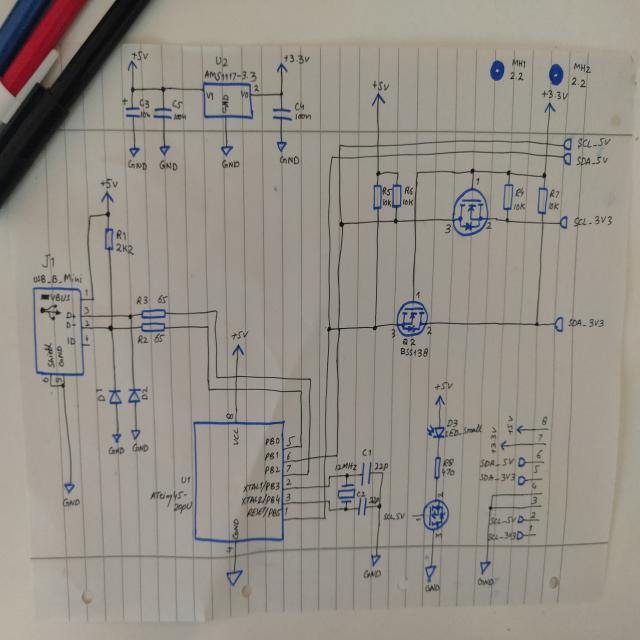capacitor: (122, 97, 140, 119), (272, 105, 292, 122), (360, 461, 372, 486), (152, 107, 173, 120), (357, 496, 367, 517)
crossover: (336, 324, 342, 332), (544, 140, 550, 148), (306, 455, 312, 462), (128, 324, 134, 331), (109, 313, 115, 319), (544, 152, 549, 159), (337, 154, 342, 161), (540, 220, 545, 226), (323, 453, 328, 459), (322, 498, 327, 504), (376, 142, 380, 149), (322, 484, 327, 489), (413, 218, 417, 224), (376, 153, 380, 159), (234, 387, 238, 392), (376, 219, 380, 224), (234, 374, 238, 378)
diode: (426, 424, 445, 438), (108, 389, 123, 405), (128, 388, 142, 403)
ground: (226, 568, 243, 588), (424, 563, 437, 583), (478, 559, 493, 576), (220, 145, 234, 157), (130, 428, 142, 441), (64, 482, 76, 494), (371, 554, 382, 567), (276, 141, 287, 153), (111, 432, 122, 443)
junction: (540, 171, 548, 180), (338, 220, 345, 229), (469, 166, 476, 175), (533, 319, 540, 328), (104, 210, 111, 218), (160, 85, 166, 94), (372, 323, 378, 332), (206, 385, 212, 394), (108, 324, 114, 332), (375, 170, 381, 178), (506, 169, 512, 177), (278, 90, 284, 98), (326, 324, 332, 332), (86, 212, 92, 220), (329, 154, 335, 162), (504, 217, 510, 224), (128, 313, 134, 320), (394, 170, 400, 177), (298, 388, 304, 395), (90, 295, 96, 302), (205, 323, 210, 331), (488, 504, 493, 512), (377, 502, 382, 510), (393, 217, 398, 224), (214, 308, 219, 315), (322, 514, 327, 521), (334, 452, 339, 459), (130, 86, 135, 92), (415, 170, 420, 176), (305, 471, 310, 477), (343, 506, 348, 512), (61, 382, 66, 388), (308, 376, 312, 383), (338, 143, 342, 149), (345, 473, 349, 478), (381, 470, 385, 475), (490, 493, 494, 498), (49, 383, 53, 388), (299, 444, 303, 448), (328, 474, 331, 479), (215, 375, 218, 379), (327, 484, 330, 488), (328, 508, 331, 512), (328, 499, 330, 503)
resistor: (502, 183, 514, 211), (537, 186, 548, 215), (140, 308, 166, 320), (140, 321, 166, 333), (103, 226, 114, 252), (372, 183, 382, 211), (391, 183, 402, 208), (433, 456, 441, 480)
source: (371, 93, 386, 107), (100, 191, 114, 204), (159, 144, 171, 157), (128, 146, 141, 158), (434, 394, 446, 407), (544, 102, 556, 114), (276, 62, 288, 74), (232, 344, 244, 356), (127, 59, 137, 72), (516, 424, 524, 435), (499, 439, 506, 451)
terminal: (553, 315, 565, 333), (558, 214, 570, 230), (562, 152, 572, 167), (563, 137, 572, 151), (516, 474, 526, 486), (517, 456, 526, 468), (516, 514, 524, 525), (516, 530, 524, 541), (537, 517, 541, 522), (540, 491, 544, 495), (544, 441, 547, 446), (540, 503, 543, 508), (542, 460, 545, 464), (547, 427, 550, 431), (534, 532, 537, 536), (540, 477, 543, 481)
text: (204, 69, 257, 83), (150, 490, 188, 507), (32, 272, 82, 284), (571, 214, 614, 227), (445, 423, 482, 438), (243, 479, 280, 494), (241, 493, 280, 506), (576, 136, 612, 150), (575, 152, 608, 167), (567, 316, 605, 328), (246, 506, 282, 518), (479, 472, 516, 483), (479, 457, 515, 468), (284, 51, 310, 65), (487, 530, 516, 541), (400, 347, 428, 358), (489, 515, 517, 526), (541, 89, 568, 100), (44, 342, 54, 369), (489, 424, 498, 454), (173, 501, 193, 514), (383, 511, 406, 522), (372, 79, 391, 92), (116, 242, 135, 255), (434, 380, 454, 392), (128, 159, 148, 171), (231, 329, 249, 342), (335, 461, 358, 471), (159, 159, 178, 171), (214, 53, 229, 68), (362, 568, 382, 579), (51, 292, 71, 303), (574, 62, 592, 74), (222, 158, 240, 170), (279, 155, 300, 165), (62, 497, 81, 508), (477, 576, 496, 587), (41, 253, 54, 269), (132, 442, 149, 454), (132, 50, 149, 62), (231, 517, 240, 539), (100, 178, 118, 189), (56, 344, 64, 368), (220, 94, 230, 112), (231, 427, 240, 446), (108, 445, 125, 455), (506, 414, 514, 435), (265, 436, 280, 447), (264, 451, 279, 462), (571, 77, 586, 88), (509, 71, 524, 82), (264, 465, 280, 475), (424, 583, 440, 593), (374, 461, 389, 471), (294, 100, 306, 112), (136, 334, 149, 345), (95, 388, 106, 401), (512, 59, 526, 69), (172, 98, 183, 110), (136, 295, 148, 306), (295, 112, 311, 120), (140, 385, 148, 401), (173, 112, 187, 121), (441, 468, 455, 477), (139, 98, 150, 109), (153, 333, 165, 343), (116, 229, 126, 241), (446, 418, 458, 428), (442, 458, 455, 467), (402, 338, 416, 346), (157, 294, 168, 304), (286, 434, 295, 446), (513, 203, 526, 211), (180, 475, 190, 485), (404, 186, 414, 196), (382, 186, 392, 196), (514, 187, 524, 197), (549, 189, 559, 199), (66, 336, 76, 346), (66, 320, 76, 330), (140, 110, 151, 119), (284, 462, 292, 474), (402, 198, 414, 206), (548, 202, 560, 210), (536, 448, 544, 460), (362, 448, 372, 457), (368, 496, 379, 504), (285, 477, 292, 489), (382, 198, 391, 207), (66, 312, 76, 320), (284, 492, 292, 502), (206, 91, 214, 101), (532, 464, 540, 474), (356, 490, 366, 498), (444, 223, 451, 234), (541, 415, 548, 426), (225, 545, 232, 555), (389, 328, 396, 338), (41, 376, 49, 384), (530, 496, 538, 504), (241, 90, 248, 99), (54, 376, 63, 383), (253, 84, 260, 93), (226, 412, 233, 420), (84, 319, 91, 327), (435, 532, 443, 539), (486, 221, 492, 230), (84, 306, 90, 315), (84, 333, 90, 342), (286, 451, 292, 460), (532, 482, 538, 491), (426, 326, 432, 335), (437, 491, 444, 498), (538, 433, 544, 441), (530, 511, 536, 519), (475, 177, 480, 186), (84, 288, 89, 297), (284, 506, 289, 515), (528, 524, 533, 532), (415, 291, 420, 299), (415, 517, 421, 522)
transistor: (451, 187, 489, 237), (396, 300, 428, 337), (422, 498, 449, 531)
